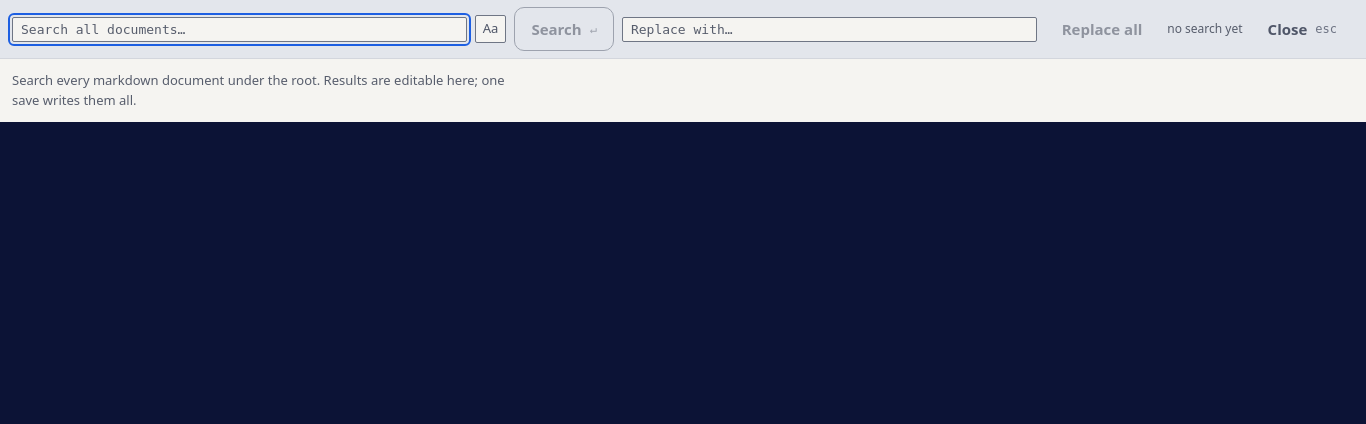
MultiBuffer › refuses to run a second search over unsaved edits
Step 1. Type "needle" into the field labelled "Search all documents" → point(239, 29), box [12,16,467,42]
Then press Enter
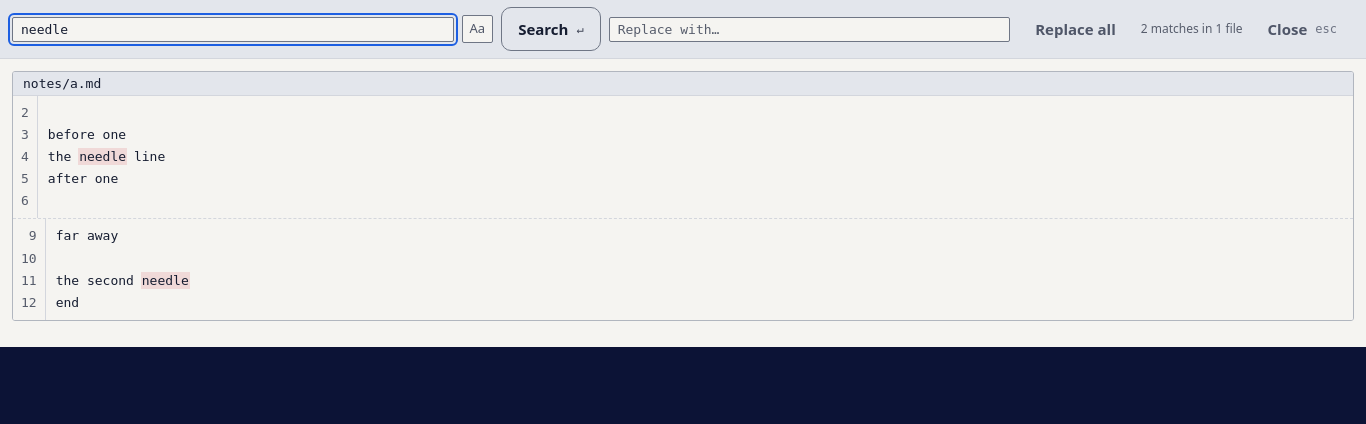
expect the button "notes/a.md" is shown: met, box [23,76,101,91]
Step 2. Type "x" into the text box named "Excerpt at line 2" → point(695, 157), box [38,96,1353,218]
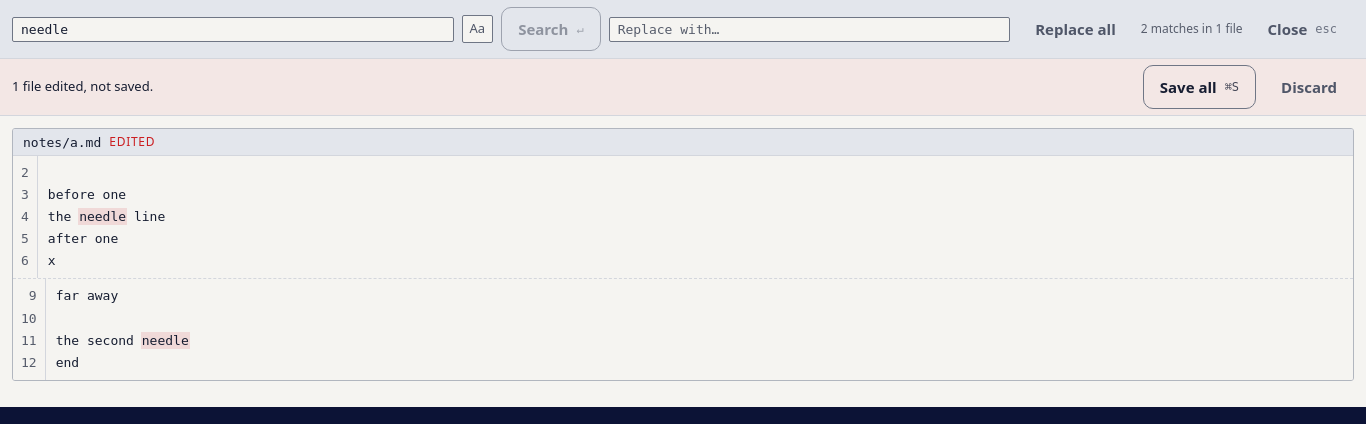
expect the button "Search ↵" is disabled: met, box [501,7,601,51]
expect the text "1 file edited, not saved." is shown: met, box [12,77,153,95]
